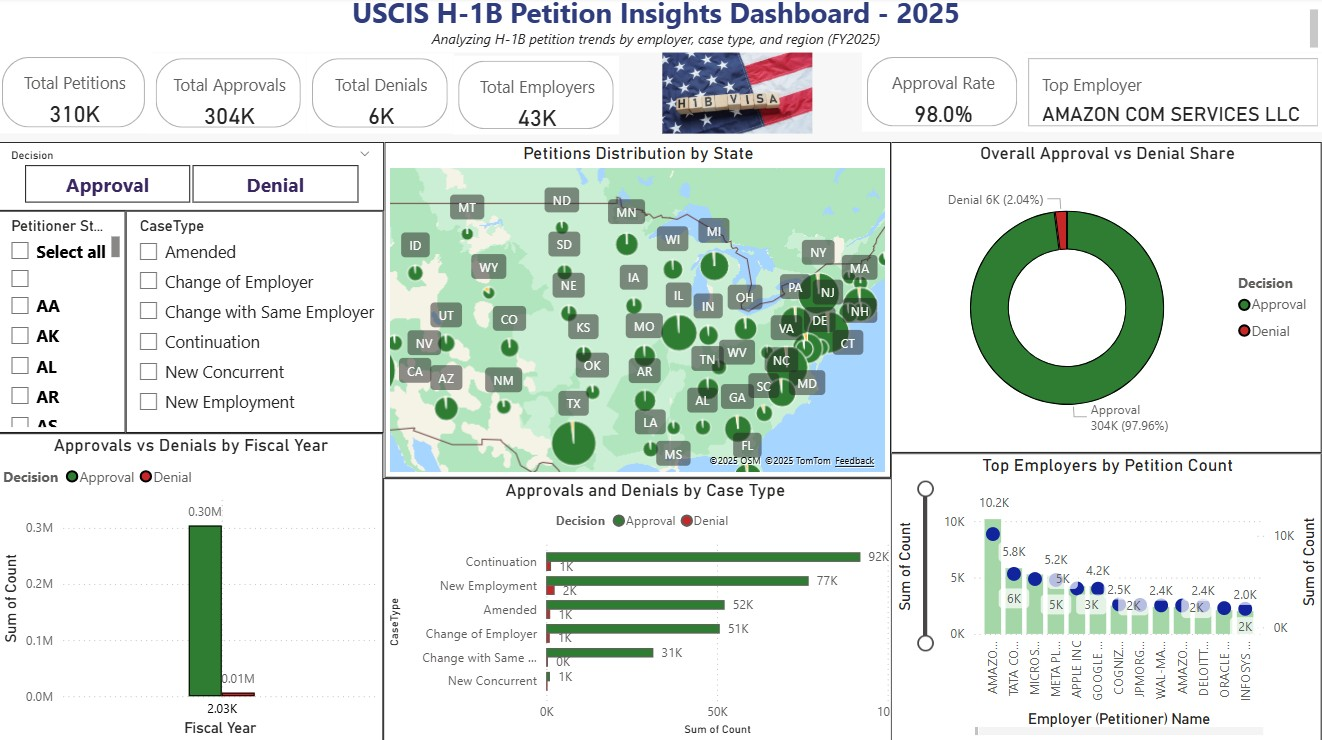

Layout of this report page (visuals, bound fields, positions):
{"tool":"powerbi","page":{"name":"Employer Information","canvas":[1280,720],"ordinal":0},"visuals":[{"type":"cardVisual","fields":{"Data":["Sum(Raw_USCIS.Count)"]},"box":[0,52.5,148.8,78.8],"z":0},{"type":"cardVisual","fields":{"Data":["Raw_USCIS.Total Approval"]},"box":[148.8,53.8,150,77.5],"z":1000},{"type":"cardVisual","fields":{"Data":["Raw_USCIS.Total Denials"]},"box":[298.8,53.8,141.2,77.5],"z":2000},{"type":"cardVisual","fields":{"Data":["Raw_USCIS.Approval Rate"]},"box":[834.3,52.9,155.7,77.1],"z":3000},{"type":"clusteredColumnChart","title":"Approvals vs Denials by Fiscal Year","fields":{"Category":["Raw_USCIS.Fiscal Year"],"Series":["Raw_USCIS.Decision"],"Y":["Sum(Raw_USCIS.Count)"]},"box":[0,420.5,372.8,298.7],"z":4000},{"type":"donutChart","title":"Overall Approval vs Denial Share","fields":{"Category":["Raw_USCIS.Decision"],"Y":["Sum(Raw_USCIS.Count)"]},"box":[862.9,140,417.1,300],"z":5000},{"type":"azureMap","title":"Petitions Distribution by State","fields":{"Category":["Raw_USCIS.Petitioner State"],"Size":["Sum(Raw_USCIS.Count)"],"Series":["Raw_USCIS.Decision"]},"box":[373.8,140,488.8,323.8],"z":6000},{"type":"clusteredBarChart","title":"Approvals and Denials by Case Type","fields":{"Category":["Raw_USCIS.CaseType"],"Y":["Sum(Raw_USCIS.Count)"],"Series":["Raw_USCIS.Decision"]},"box":[372.8,464.4,504.6,254.8],"z":7000},{"type":"slicer","fields":{"Values":["Raw_USCIS.Petitioner State"]},"box":[0,205.8,124.3,214.6],"z":8000},{"type":"slicer","fields":{"Values":["Raw_USCIS.Decision"]},"box":[0,139.8,373.4,66.5],"z":9000},{"type":"slicer","fields":{"Values":["Raw_USCIS.CaseType"]},"box":[124.3,205.8,248.5,214.6],"z":10000},{"type":"cardVisual","fields":{"Data":["Raw_USCIS.Top Employer"]},"box":[990,54.3,290,75.7],"z":11000},{"type":"image","box":[625.7,47.1,177.1,90],"z":12000},{"type":"textbox","box":[0,0,1280,53.8],"z":13000},{"type":"cardVisual","title":"Total Employers","fields":{"Data":["Raw_USCIS.Total Employer"]},"box":[440,56.2,160,76.2],"z":14000},{"type":"lineClusteredColumnComboChart","title":"Top Employers by Petition Count","fields":{"Y":["Sum(Raw_USCIS.Count)"],"Y2":["Sum(Raw_USCIS.Count)"],"Category":["Raw_USCIS.Employer (Petitioner) Name"]},"box":[862.9,440,417.1,278.6],"z":15000}]}

Visuals, with their boxes in screenshot pixels (x1, y1, x2, y2), scaled from the page's 1280x720 canvas onto the 1322x740 screenshot:
cardVisual - Sum(Raw_USCIS.Count): 0/54/154/135
cardVisual - Raw_USCIS.Total Approval: 154/55/309/135
cardVisual - Raw_USCIS.Total Denials: 309/55/454/135
cardVisual - Raw_USCIS.Approval Rate: 862/54/1022/134
"Approvals vs Denials by Fiscal Year" clusteredColumnChart: 0/432/385/739
"Overall Approval vs Denial Share" donutChart: 891/144/1321/452
"Petitions Distribution by State" azureMap: 386/144/891/477
"Approvals and Denials by Case Type" clusteredBarChart: 385/477/906/739
slicer - Raw_USCIS.Petitioner State: 0/212/128/432
slicer - Raw_USCIS.Decision: 0/144/386/212
slicer - Raw_USCIS.CaseType: 128/212/385/432
cardVisual - Raw_USCIS.Top Employer: 1022/56/1321/134
image: 646/48/829/141
textbox: 0/0/1321/55
"Total Employers" cardVisual: 454/58/620/136
"Top Employers by Petition Count" lineClusteredColumnComboChart: 891/452/1321/739
